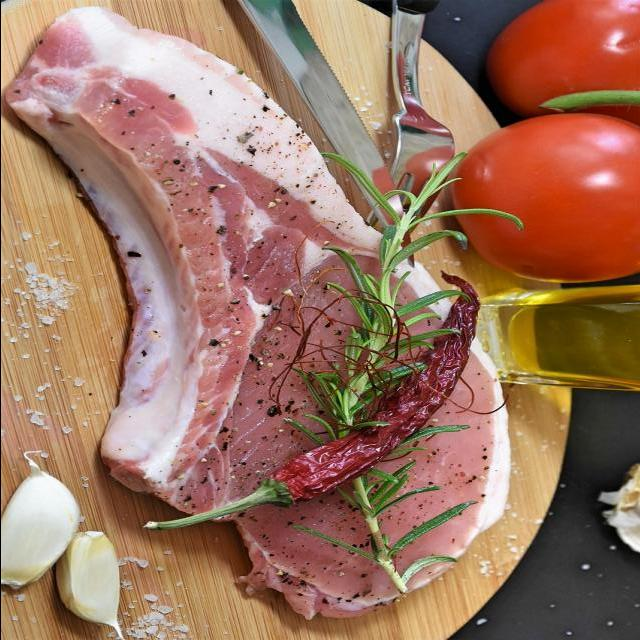garlic: (1, 468, 82, 590), (52, 529, 130, 631)
tomato: (450, 112, 640, 286), (482, 1, 640, 123)
